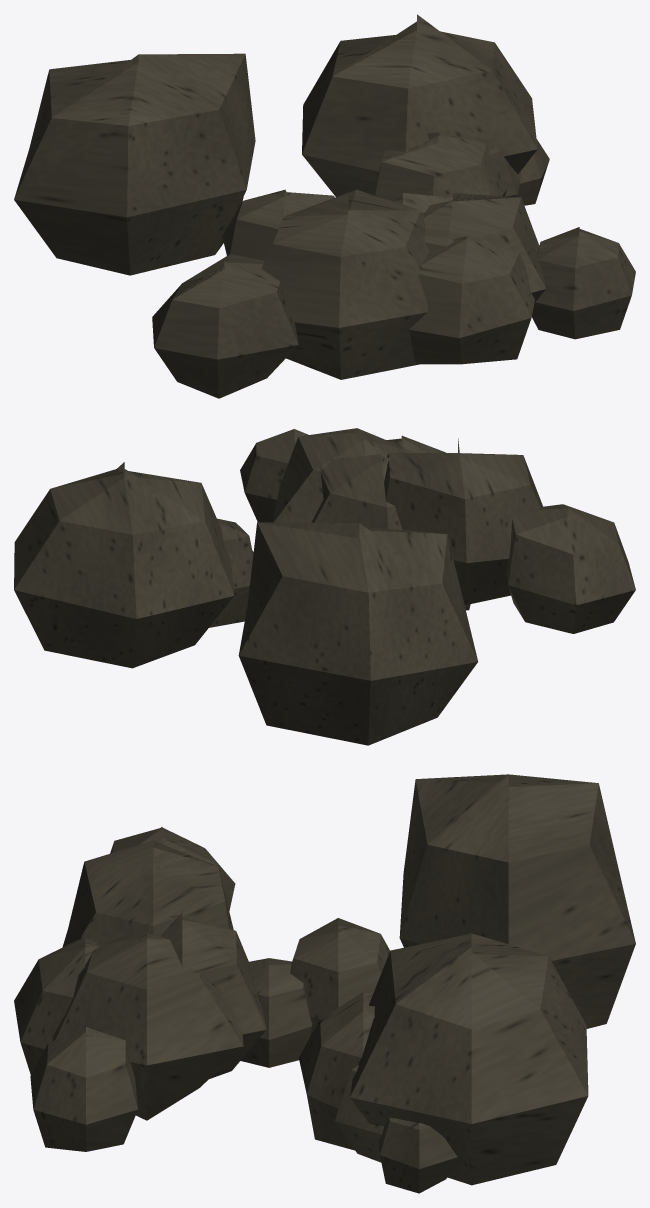
The model's file is PROP-86BC53B68C31_lod2.glb.
The picture shows the model from 3 angles, top to bottom: view 1: azimuth 30°, elevation 25°; view 2: azimuth 150°, elevation 25°; view 3: azimuth 270°, elevation 25°; orthographic projection. The views are drawn at different scales.
Parts seen in each view (by area): view 1: rock.005; view 2: rock.005; view 3: rock.005.
Part boxes in pixels (left/top/right/bottom): rock.005: left=14, top=14, right=635, bottom=398; rock.005: left=14, top=428, right=635, bottom=745; rock.005: left=14, top=774, right=635, bottom=1193.
Bounding box in the file's own units: 1.27 × 0.4557 × 1.17.
1 material, 1 textured.
